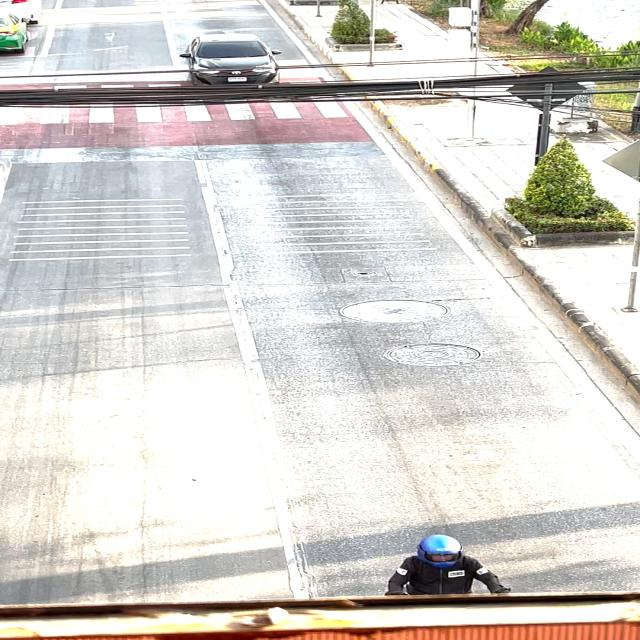car: (164, 24, 293, 90)
